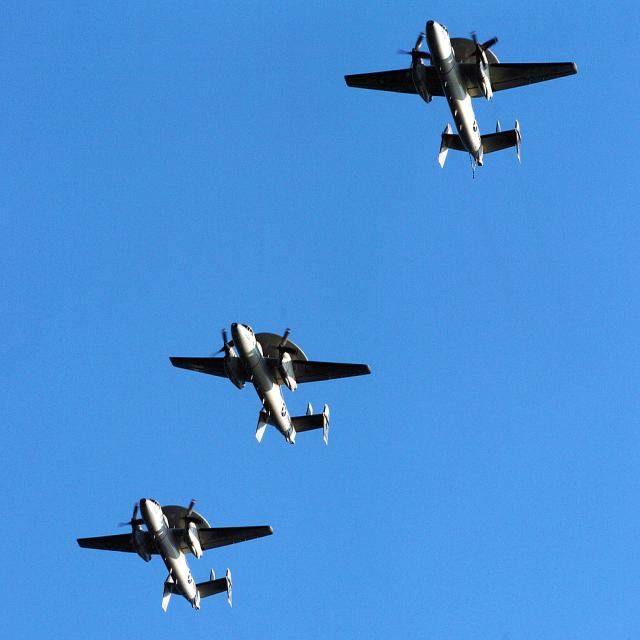MIL_Plane: (344, 22, 578, 177), (79, 497, 271, 613), (169, 348, 371, 420)
